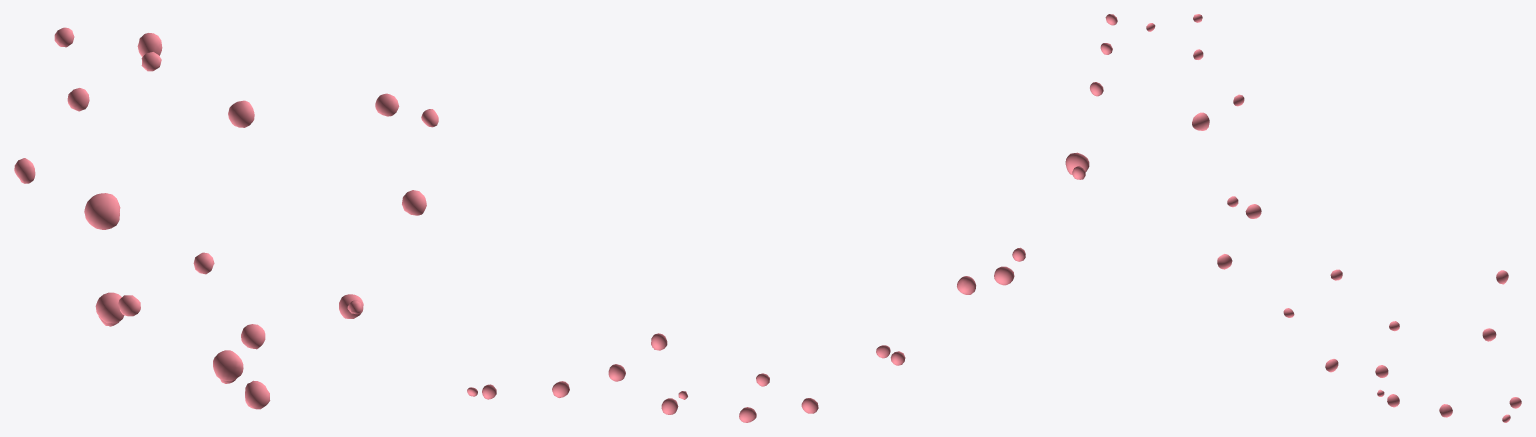
The model's file is Mitochondria_Granules.fbx.
3 views of the same model, side by side, from view 1: azimuth 30°, elevation 25°; view 2: azimuth 150°, elevation 25°; view 3: azimuth 270°, elevation 25° (orthographic). The views are drawn at different scales.
Parts seen in each view (by area): view 1: Mitochondria_Granule_4, Mitochondria_Granule_7, Mitochondria_Granule_8, Mitochondria_Granule_11, Mitochondria_Granule_17, Mitochondria_Granule_18, Mitochondria_Granule_13, Mitochondria_Granule_15, Mitochondria_Granule_20, Mitochondria_Granule_5, Mitochondria_Granule_3, Mitochondria_Granule_6; view 2: no part large enough to name; view 3: no part large enough to name.
Part boxes in pixels (left/top/right/bottom): Mitochondria_Granule_4: left=84, top=193, right=120, bottom=229; Mitochondria_Granule_7: left=213, top=350, right=243, bottom=381; Mitochondria_Granule_8: left=95, top=292, right=124, bottom=323; Mitochondria_Granule_11: left=245, top=380, right=270, bottom=409; Mitochondria_Granule_17: left=228, top=100, right=254, bottom=127; Mitochondria_Granule_18: left=402, top=190, right=426, bottom=215; Mitochondria_Granule_13: left=241, top=324, right=265, bottom=349; Mitochondria_Granule_15: left=137, top=33, right=162, bottom=57; Mitochondria_Granule_20: left=375, top=93, right=399, bottom=116; Mitochondria_Granule_5: left=14, top=158, right=35, bottom=183; Mitochondria_Granule_3: left=67, top=88, right=89, bottom=111; Mitochondria_Granule_6: left=118, top=295, right=140, bottom=316.
Bounding box in the file's own units: 215 × 166 × 202.
